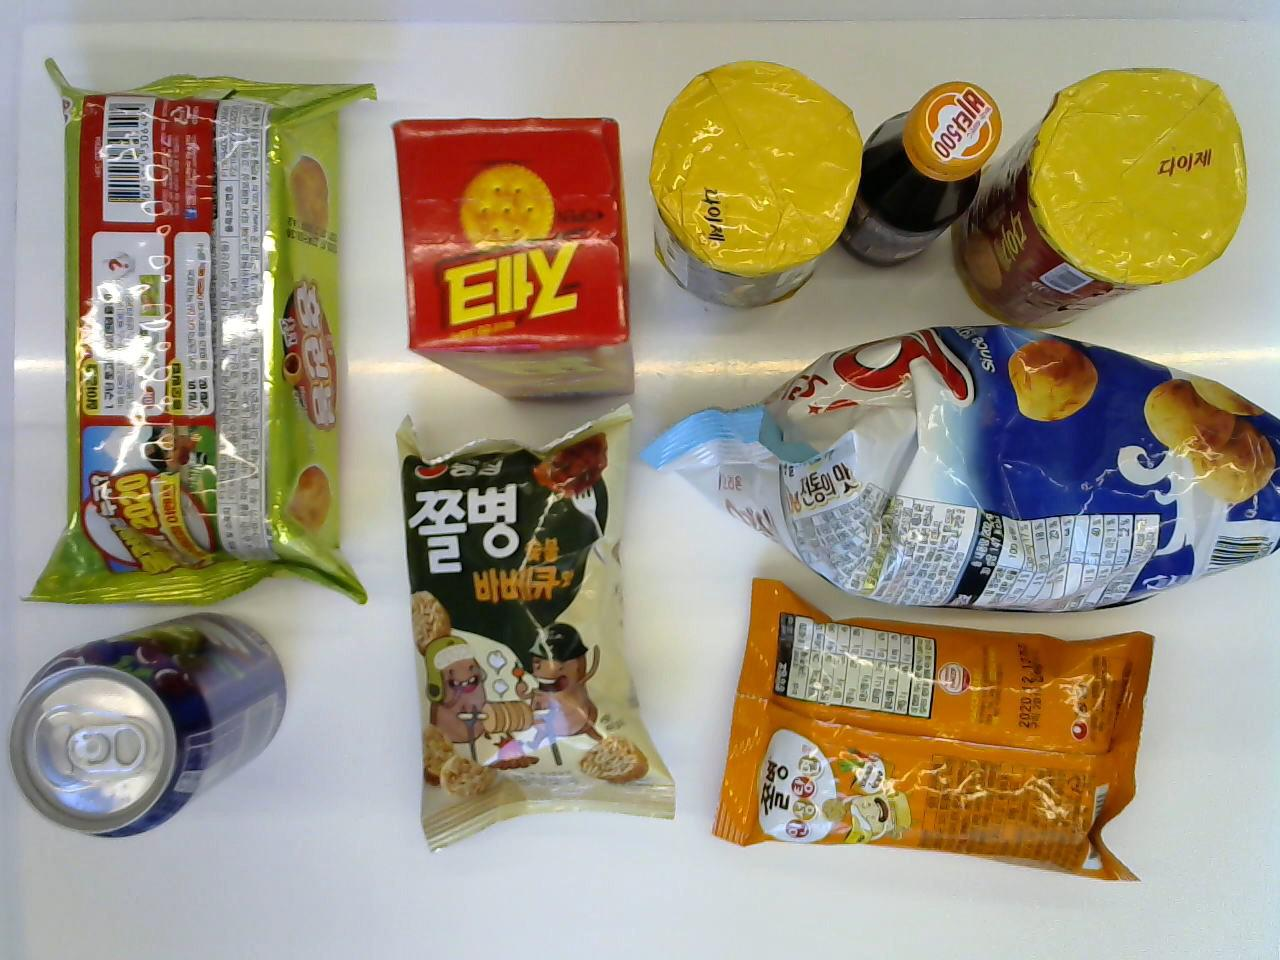diget_choco: (643, 48, 868, 303)
diget_ori: (958, 63, 1248, 329)
homerunball: (11, 44, 383, 611)
jjolbyung_noodle: (706, 575, 1158, 887)
jjolbyung_ori: (391, 399, 679, 853)
squid_peanut: (639, 312, 1277, 615)
vita500: (844, 70, 1006, 268)
welchs: (11, 609, 286, 845)
zec: (388, 100, 640, 407)
